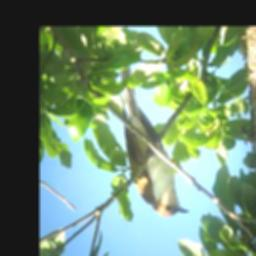Cuckoo: (117, 59, 192, 219)
